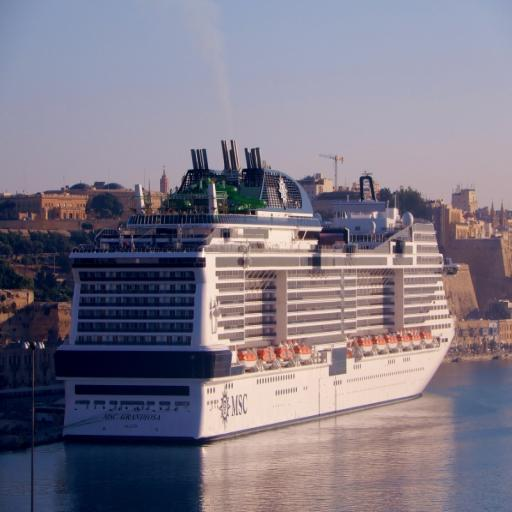cruises: (61, 139, 461, 447)
